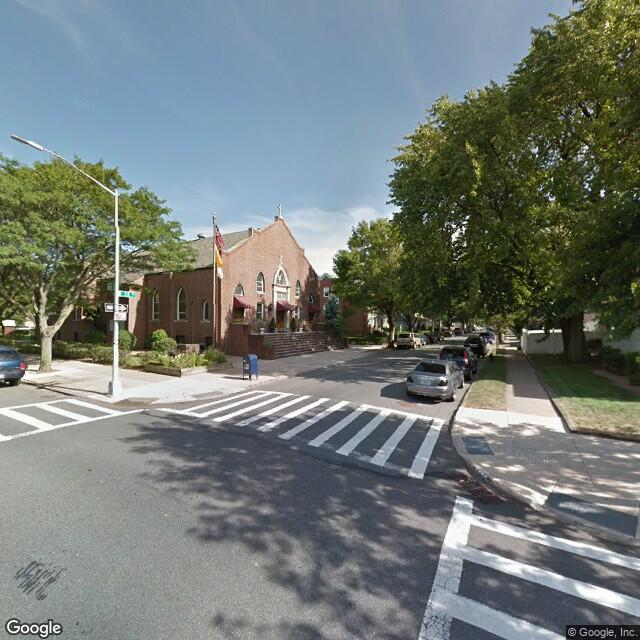litter: (454, 476, 466, 484)
